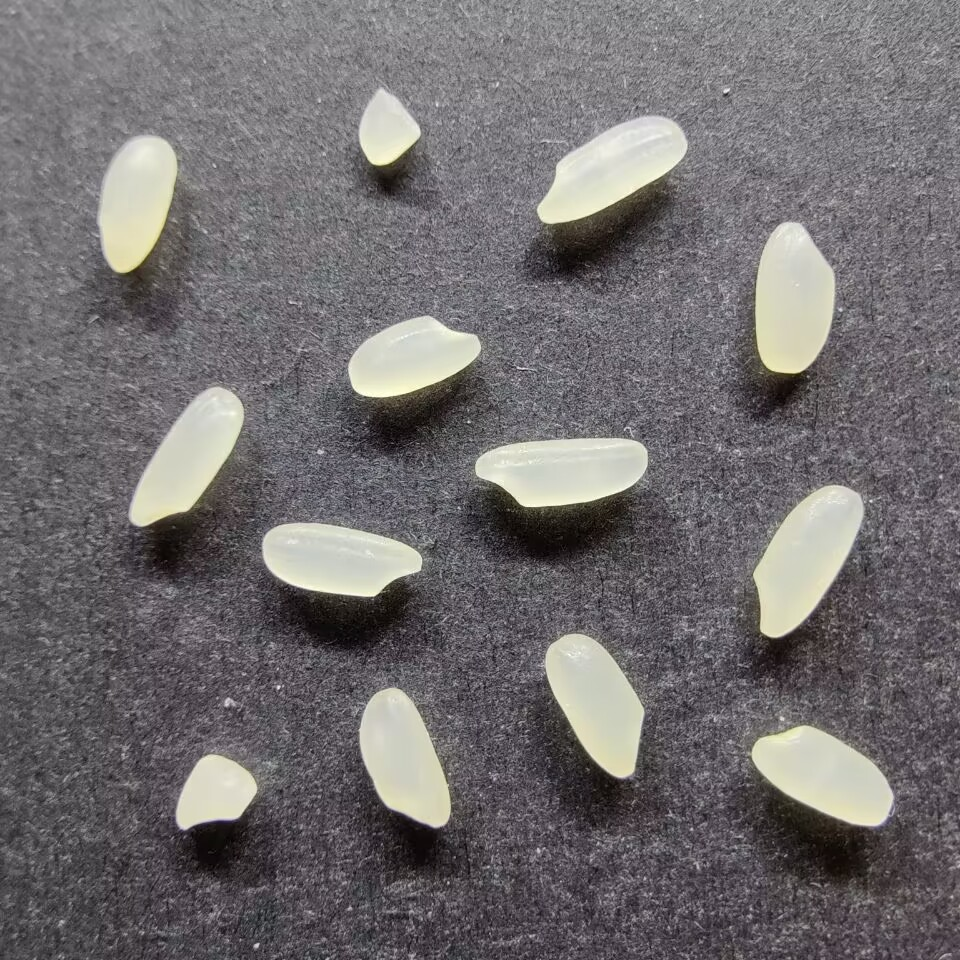broken: (171, 753, 261, 831), (356, 86, 422, 167)
rice: (750, 483, 865, 639), (534, 114, 689, 226), (128, 383, 243, 528), (542, 632, 646, 778), (749, 724, 894, 828), (356, 686, 453, 829), (752, 219, 838, 375), (472, 436, 648, 508), (260, 521, 422, 598), (95, 134, 178, 274), (346, 314, 482, 398)
